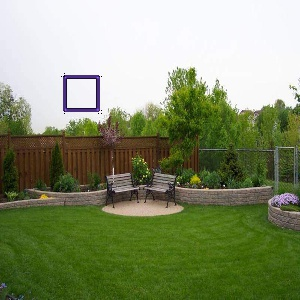square: (59, 72, 102, 113)
